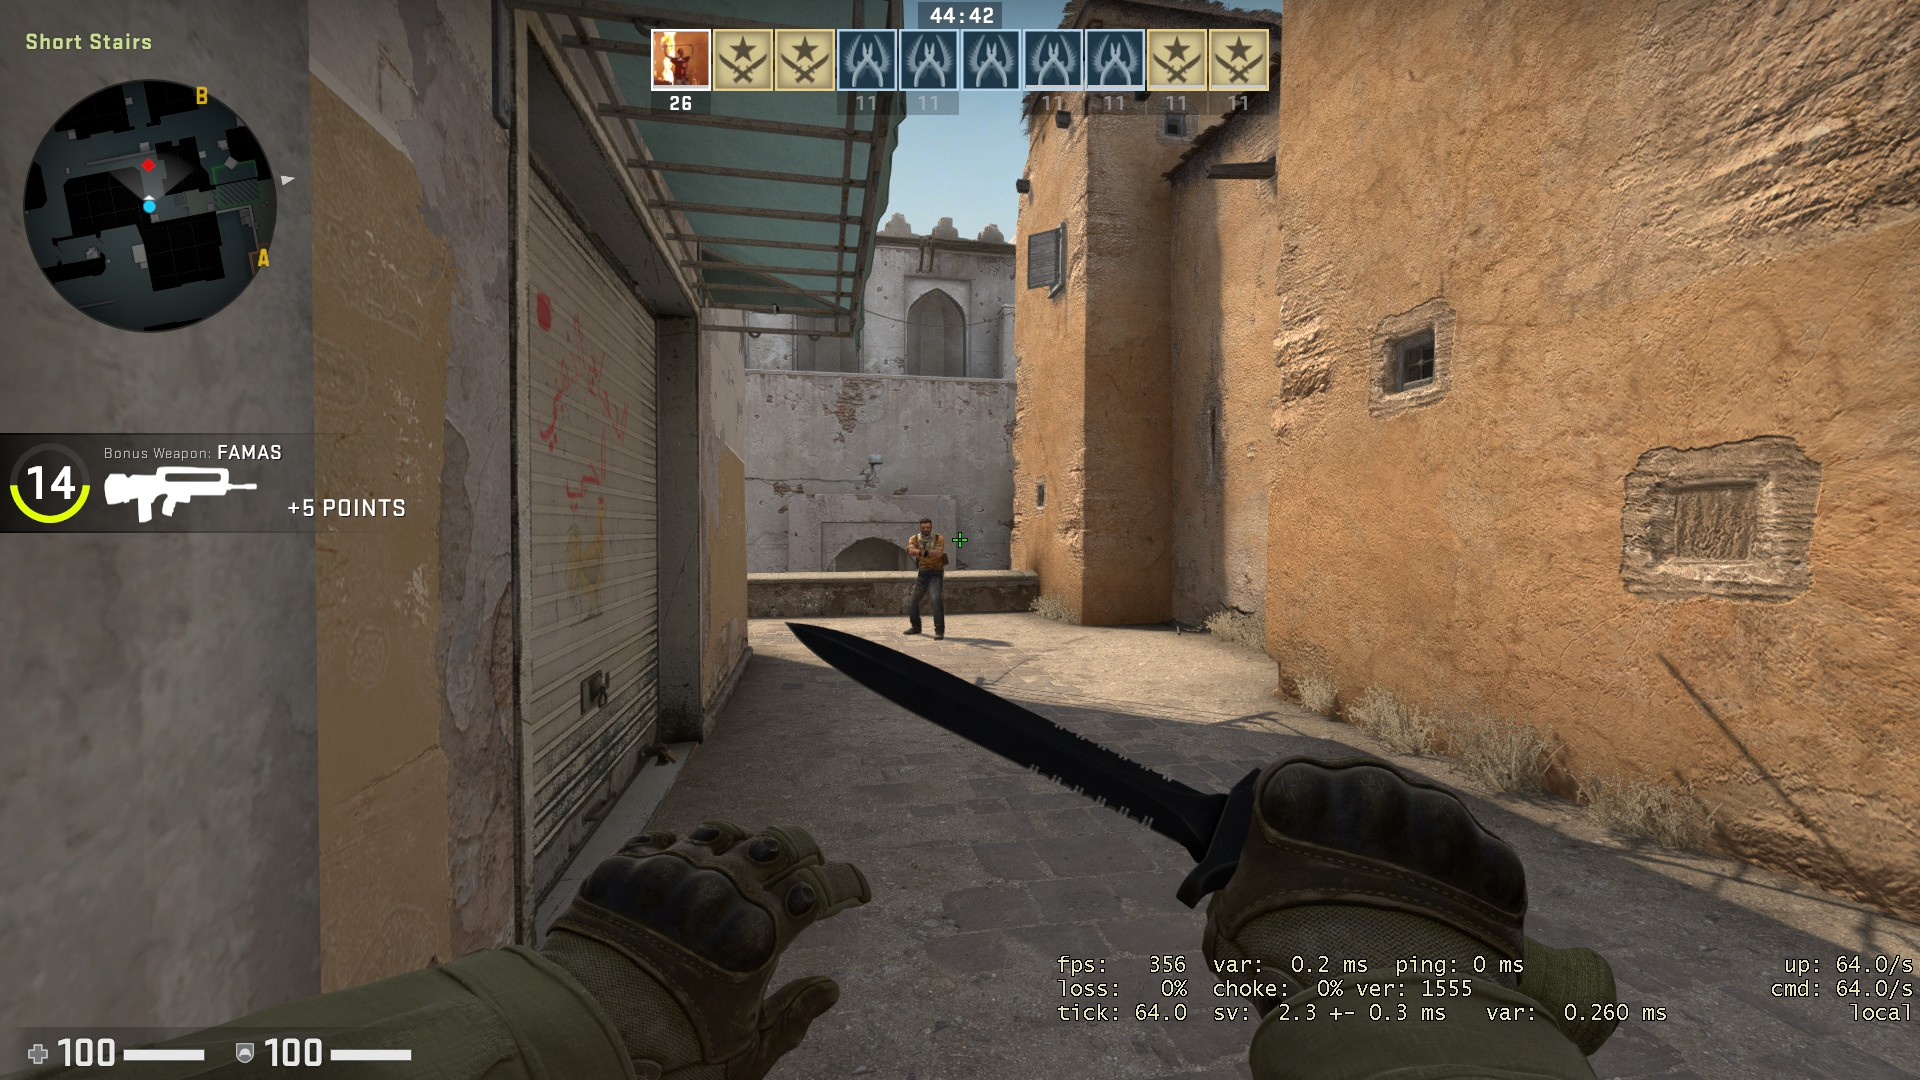player: (900, 516, 954, 643)
